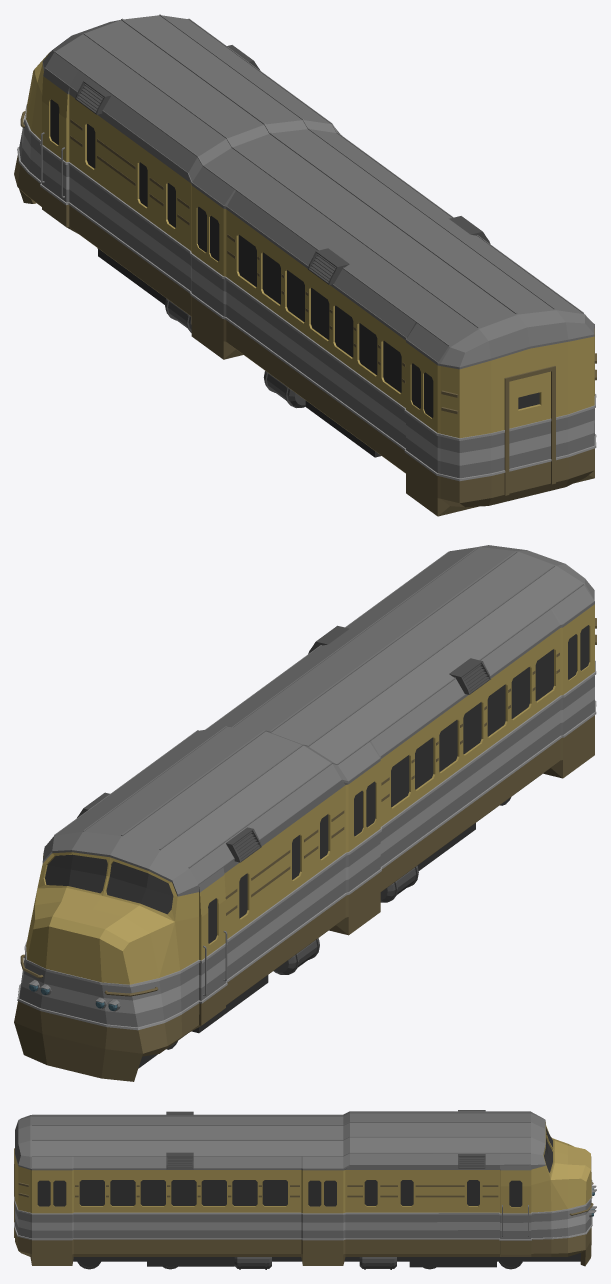
File: train_engine.glb
The picture shows the model from 3 angles, top to bottom: view 1: azimuth 30°, elevation 25°; view 2: azimuth 150°, elevation 25°; view 3: azimuth 270°, elevation 25°; orthographic projection. The views are drawn at different scales.
Parts seen in each view (by area): view 1: train_engine; view 2: train_engine; view 3: train_engine.
Boxes of the visible parts, x1=… form: train_engine: x1=14, y1=14, x2=596, y2=516; train_engine: x1=14, y1=545, x2=596, y2=1081; train_engine: x1=14, y1=1110, x2=596, y2=1269.
Bounding box in the file's own units: 2.15 × 2.68 × 10.35.
